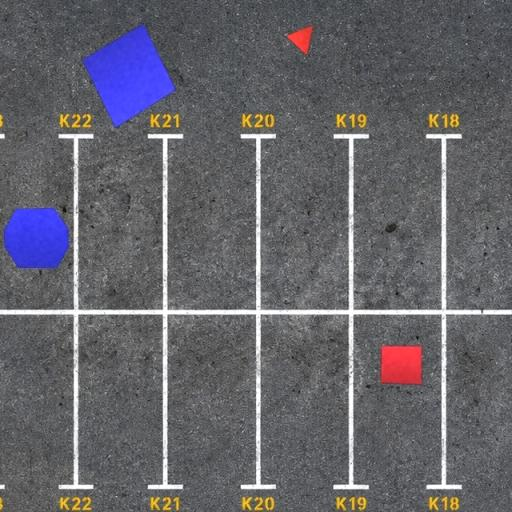BLUE_SQUARE: (82, 22, 176, 129)
RED_SQUARE: (379, 344, 423, 386)
